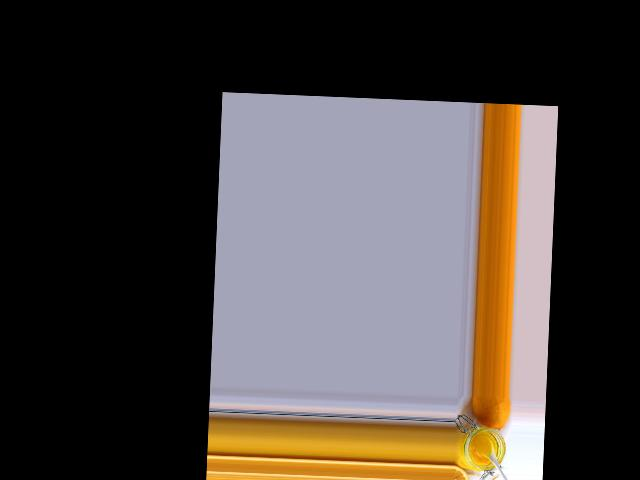lemon: (471, 396, 509, 431)
